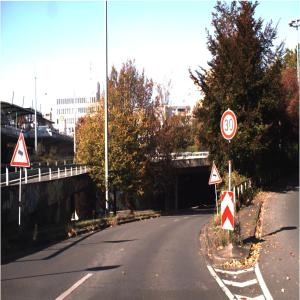slippery road: (11, 133, 31, 168), (209, 164, 223, 186)
